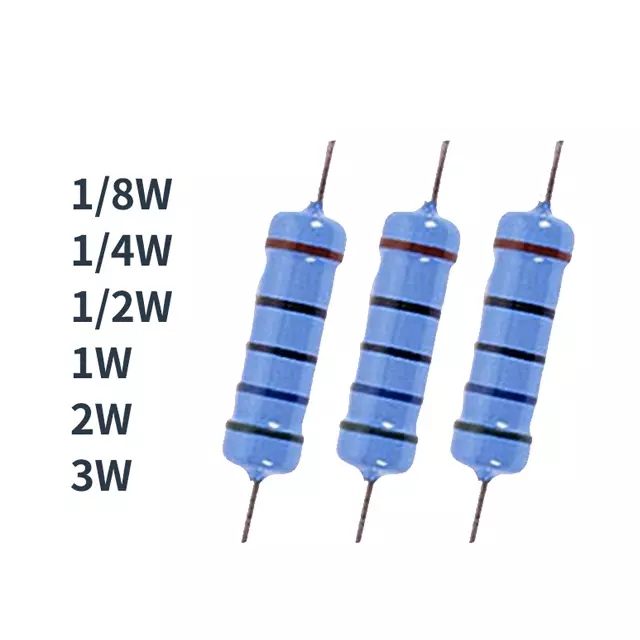resistor: (316, 183, 483, 501), (433, 180, 600, 498), (202, 189, 364, 496)
